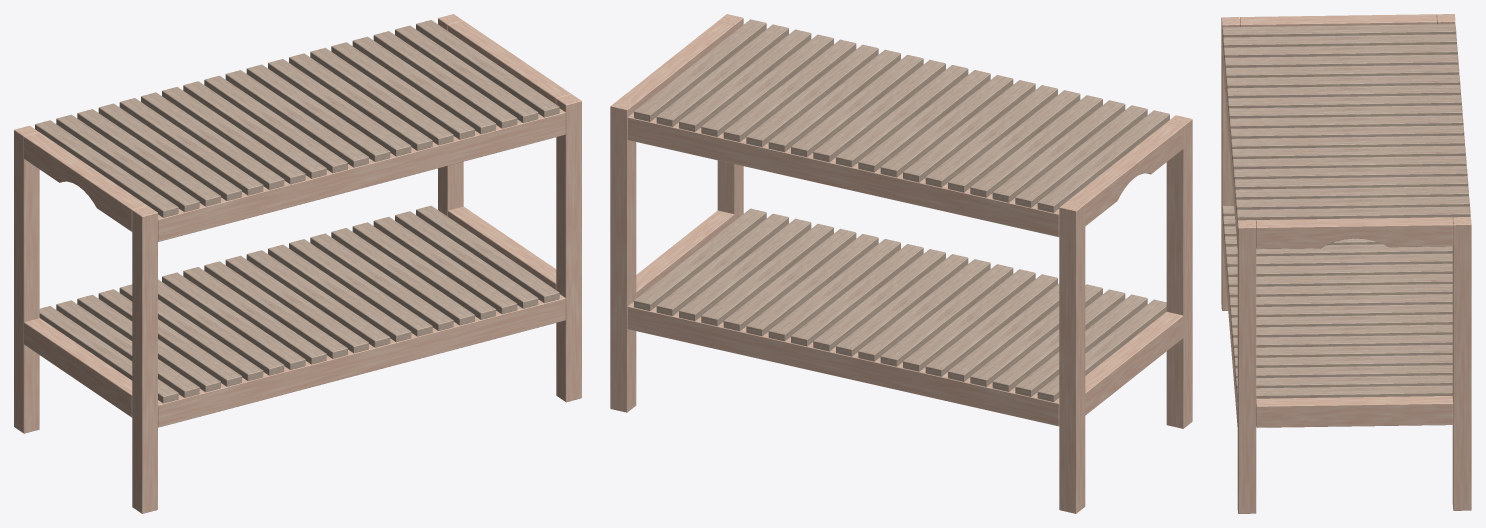
File: table1.glb
3 views of the same model, side by side, from view 1: azimuth 30°, elevation 25°; view 2: azimuth 150°, elevation 25°; view 3: azimuth 270°, elevation 25° (orthographic). The views are drawn at different scales.
Parts seen in each view (by area): view 1: Cube.003_5, Cube.005_7, Cube_2, Cube.004_6, Cube.002_4, Cube.006_8, Cube.001_3; view 2: Cube.003_5, Cube.005_7, Cube_2, Cube.002_4, Cube.004_6, Cube.001_3, Cube.006_8; view 3: Cube.003_5, Cube.005_7, Cube_2, Cube.001_3, Cube.006_8, Cube.004_6, Cube.002_4.
Part boxes in pixels (x1=…): Cube.003_5: x1=35, y1=20, x2=559, y2=217; Cube.005_7: x1=39, y1=205, x2=559, y2=403; Cube_2: x1=14, y1=14, x2=581, y2=513; Cube.004_6: x1=158, y1=294, x2=565, y2=427; Cube.002_4: x1=158, y1=108, x2=565, y2=241; Cube.006_8: x1=24, y1=206, x2=556, y2=417; Cube.001_3: x1=24, y1=21, x2=571, y2=231; Cube.003_5: x1=634, y1=19, x2=1169, y2=212; Cube.005_7: x1=634, y1=208, x2=1166, y2=401; Cube_2: x1=610, y1=14, x2=1192, y2=513; Cube.002_4: x1=627, y1=112, x2=1059, y2=237; Cube.004_6: x1=627, y1=302, x2=1059, y2=426; Cube.001_3: x1=620, y1=21, x2=1183, y2=226; Cube.006_8: x1=636, y1=210, x2=1183, y2=415; Cube.003_5: x1=1222, y1=24, x2=1470, y2=223; Cube.005_7: x1=1222, y1=206, x2=1452, y2=401; Cube_2: x1=1221, y1=14, x2=1471, y2=513; Cube.001_3: x1=1240, y1=14, x2=1453, y2=249; Cube.006_8: x1=1256, y1=396, x2=1453, y2=427; Cube.004_6: x1=1222, y1=211, x2=1237, y2=426; Cube.002_4: x1=1222, y1=32, x2=1237, y2=247.
Size of the model in its own units: 110 by 68.92 by 54.58.
2 materials, 2 textured.
